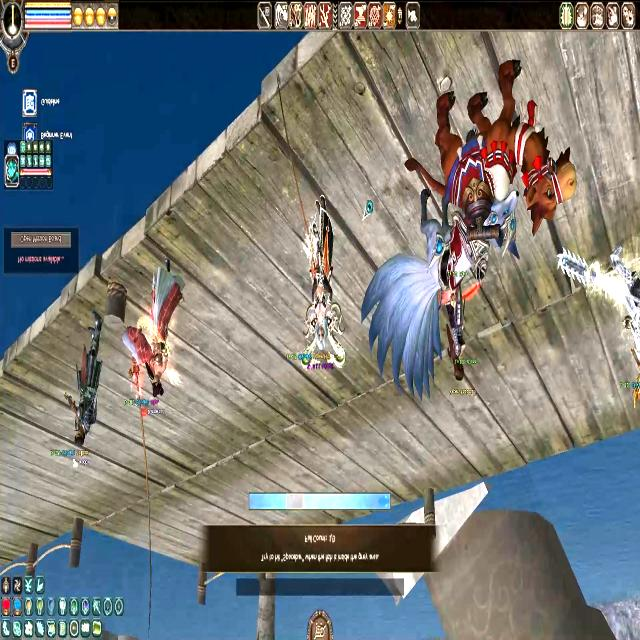fishes: (378, 495, 390, 508)
